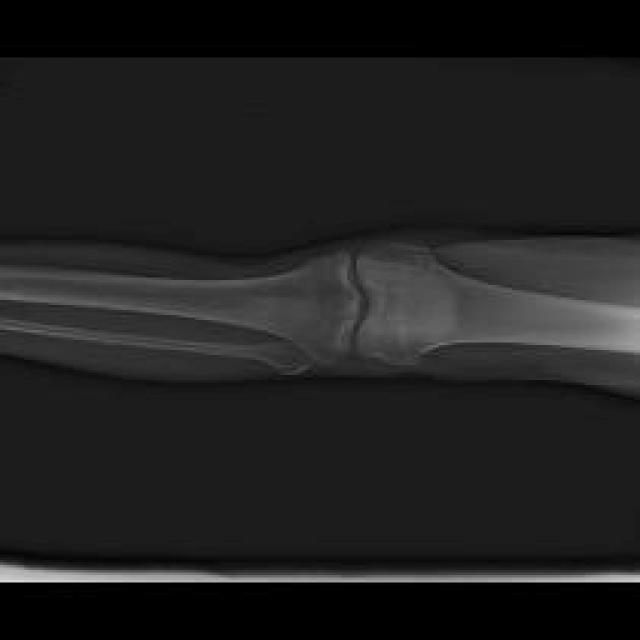normal: (0, 254, 359, 367), (357, 243, 639, 362), (0, 317, 315, 371)
